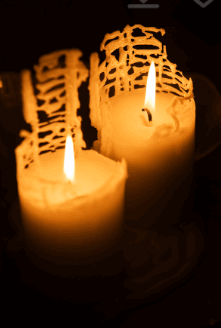Fire: (53, 125, 96, 198), (141, 52, 165, 120)
